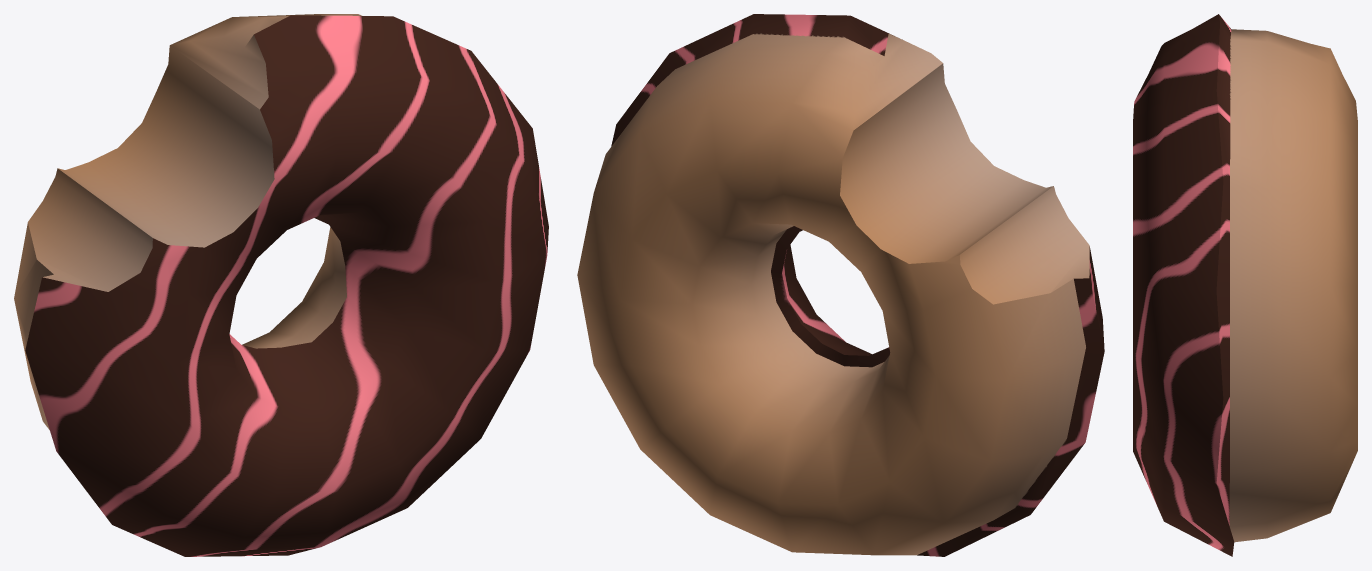
File: DonutBitten.fbx
3 renders of one model, left to right at view 1: azimuth 30°, elevation 25°; view 2: azimuth 150°, elevation 25°; view 3: azimuth 270°, elevation 25°, orthographic. The views are drawn at different scales.
Parts seen in each view (by area): view 1: Donut.001; view 2: Donut.001; view 3: Donut.001.
Boxes of the visible parts, <box> form: Donut.001: <box>14,14,548,556</box>; Donut.001: <box>577,14,1104,556</box>; Donut.001: <box>1133,14,1357,556</box>.
Bounding box in the file's own units: 4.99 × 4.96 × 2.
